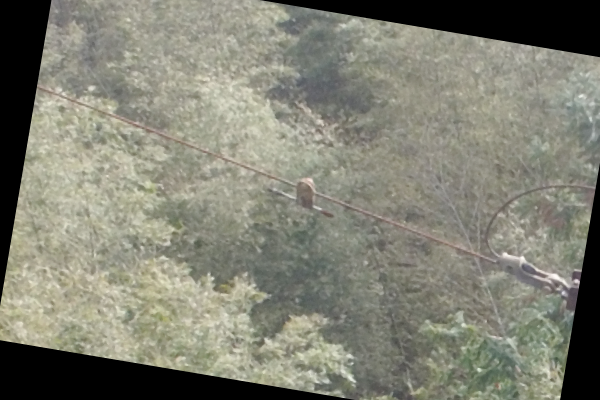damper_defect: (262, 174, 335, 219)
